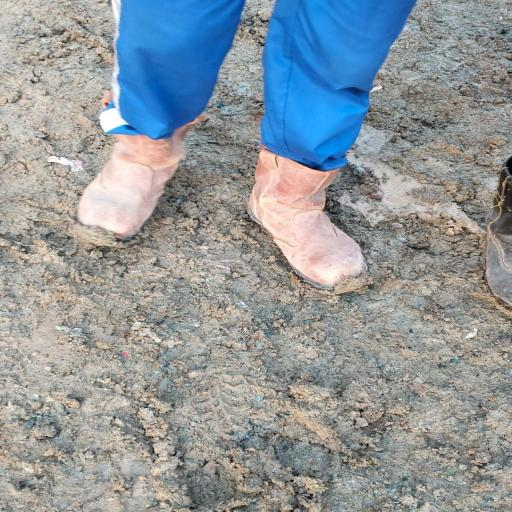safety_shoe: (253, 139, 374, 294), (65, 98, 191, 242)
